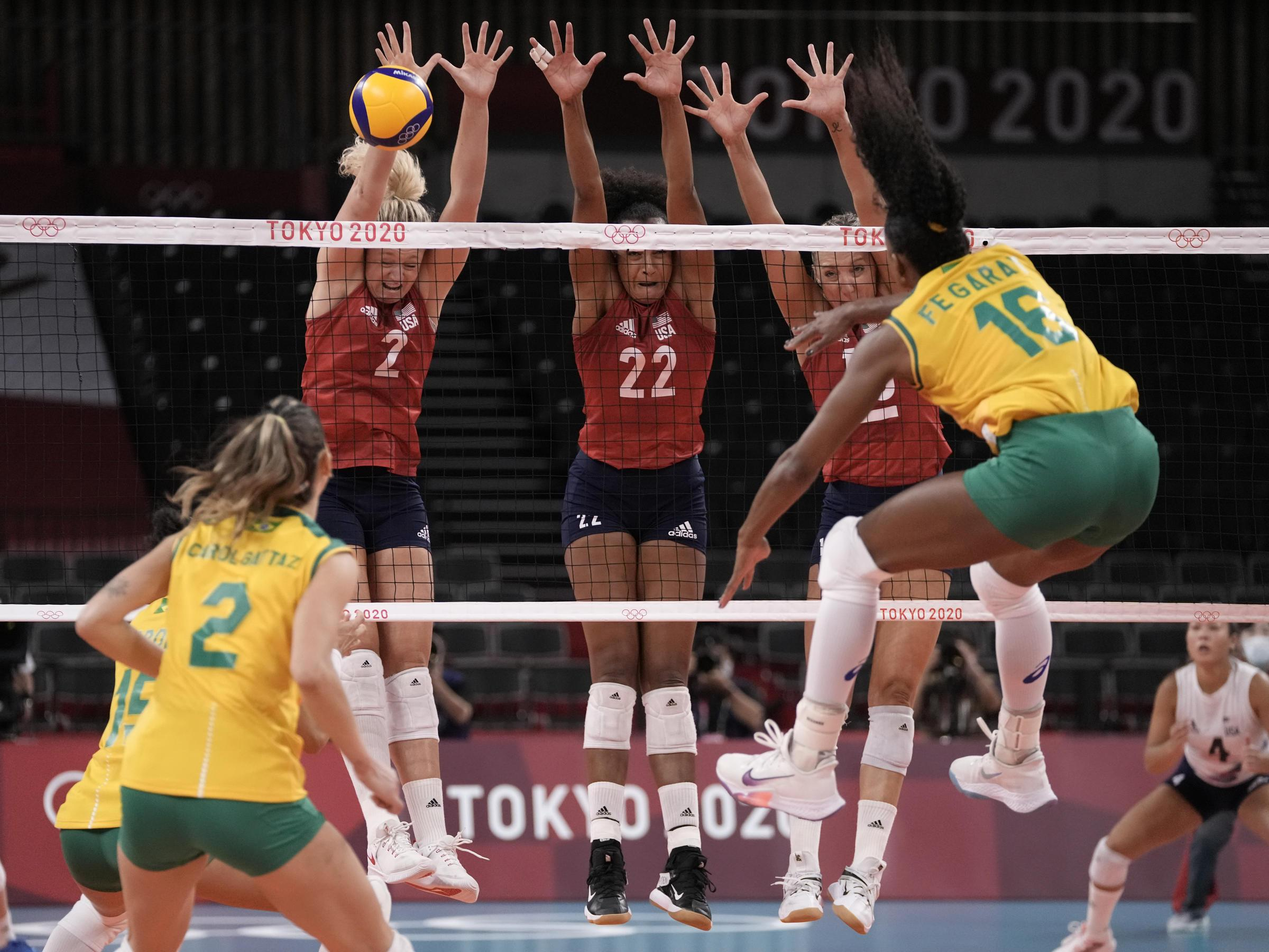ballon_volley: (346, 66, 436, 152)
